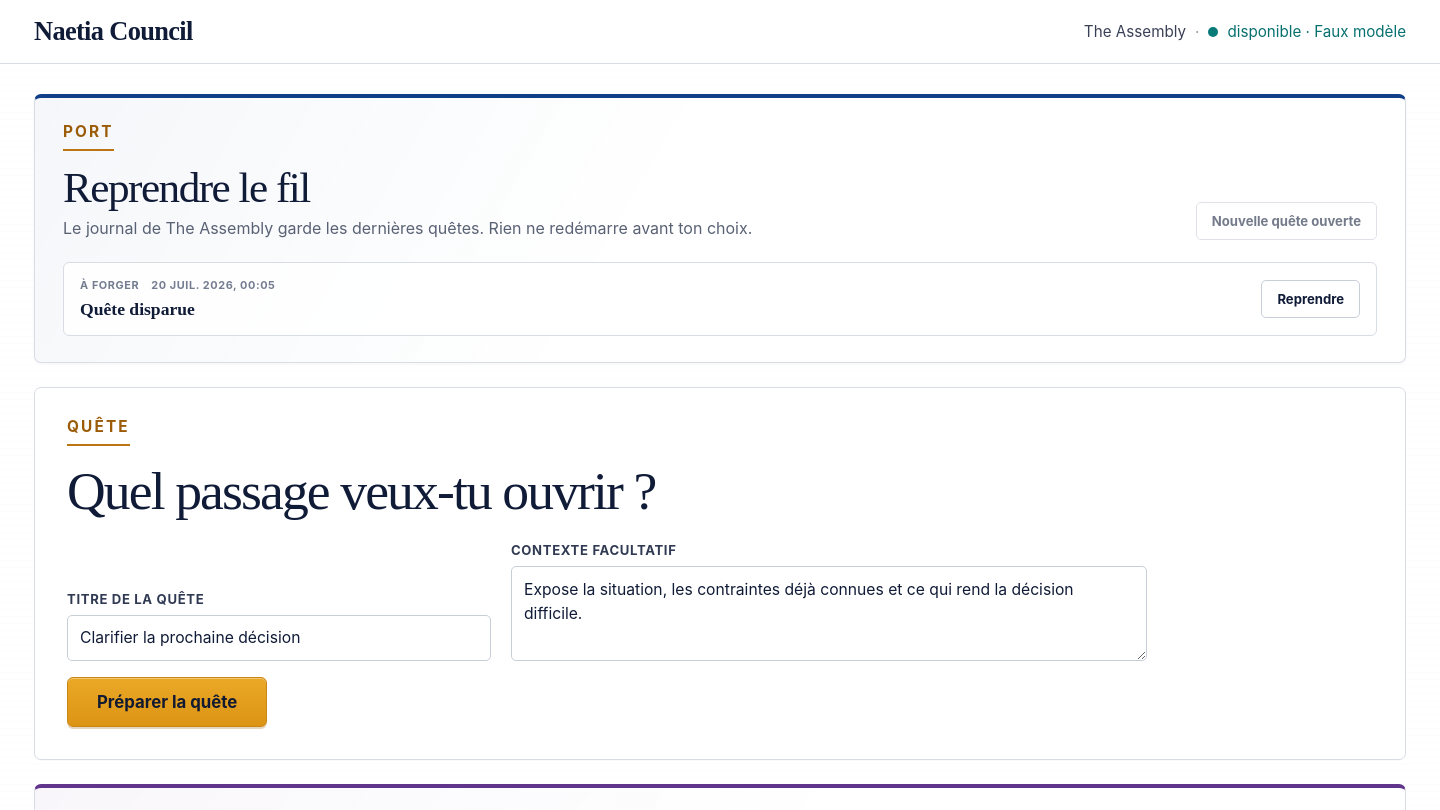
Test: Naetia Council shell › keeps the Port open when a listed session disappears
Click the button "Reprendre" at [1311, 299], box [1261,280,1360,318]
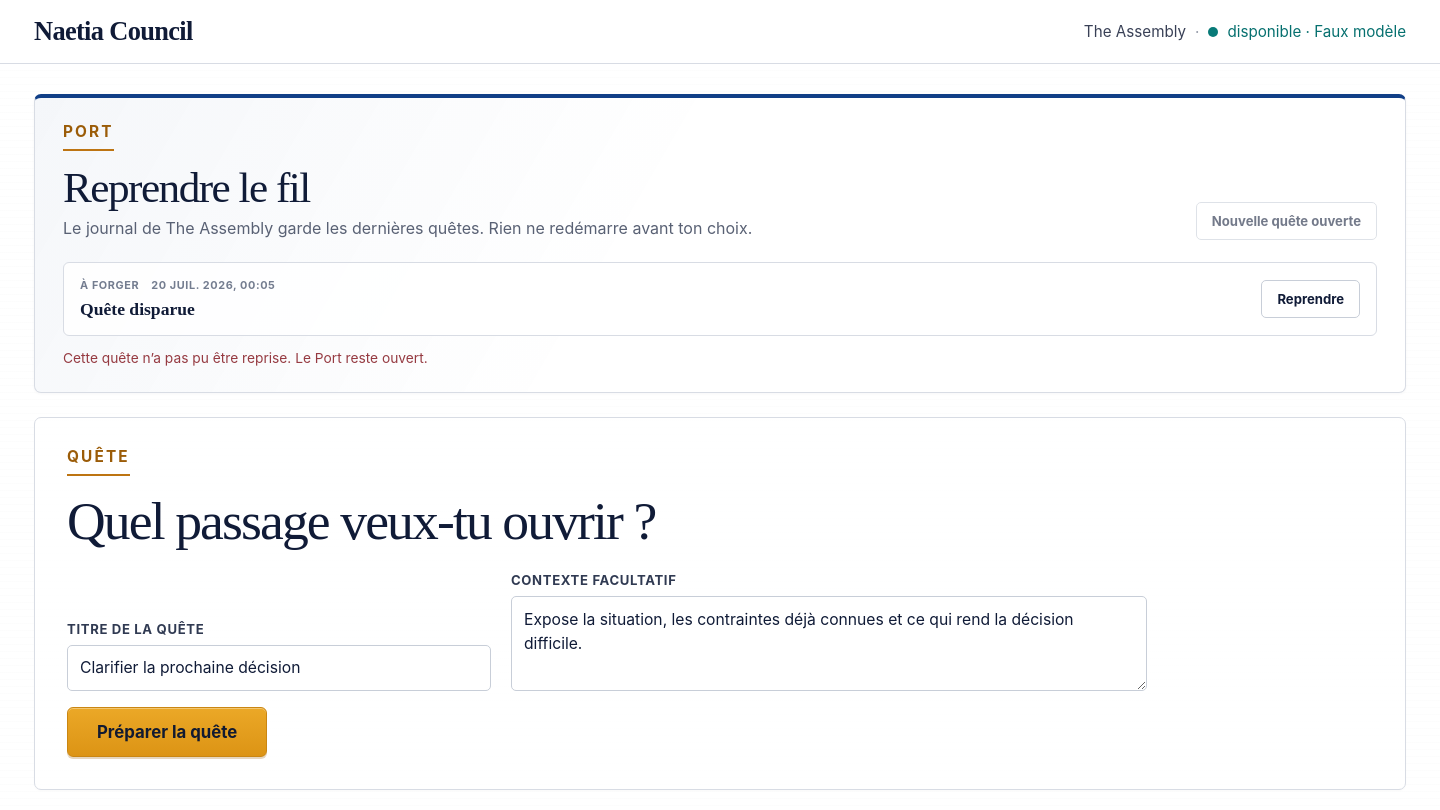
Expected: the field showing "Clarifier la prochaine décision" is enabled, [67,645,491,691]
Expected: the text "Cette quête n’a pas pu être reprise. Le Port reste ouvert." is shown, [63,350,428,366]
